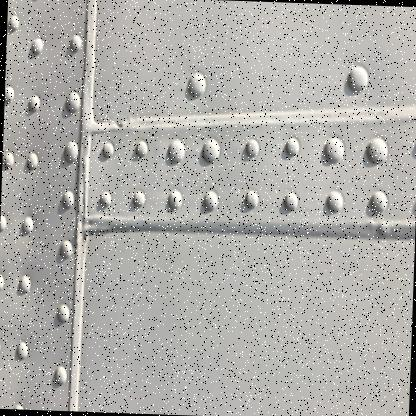Nocrack: (0, 1, 409, 400)
